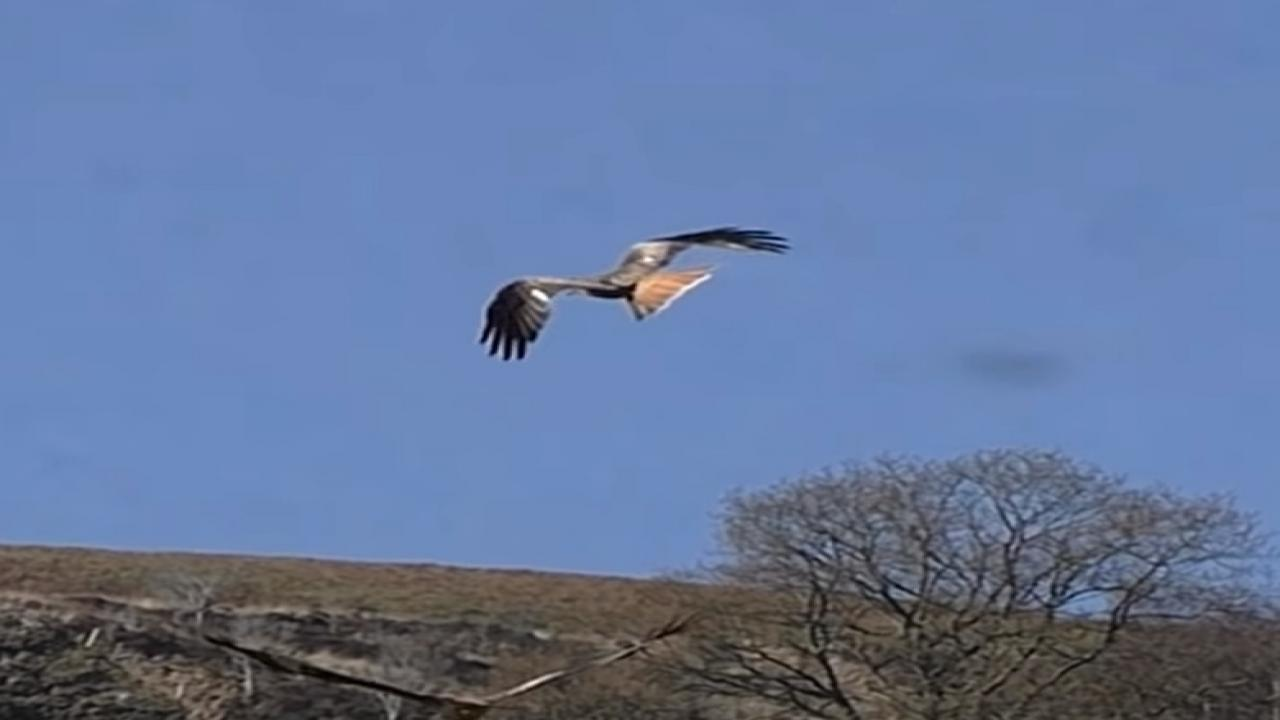Bird: (458, 216, 801, 369)
